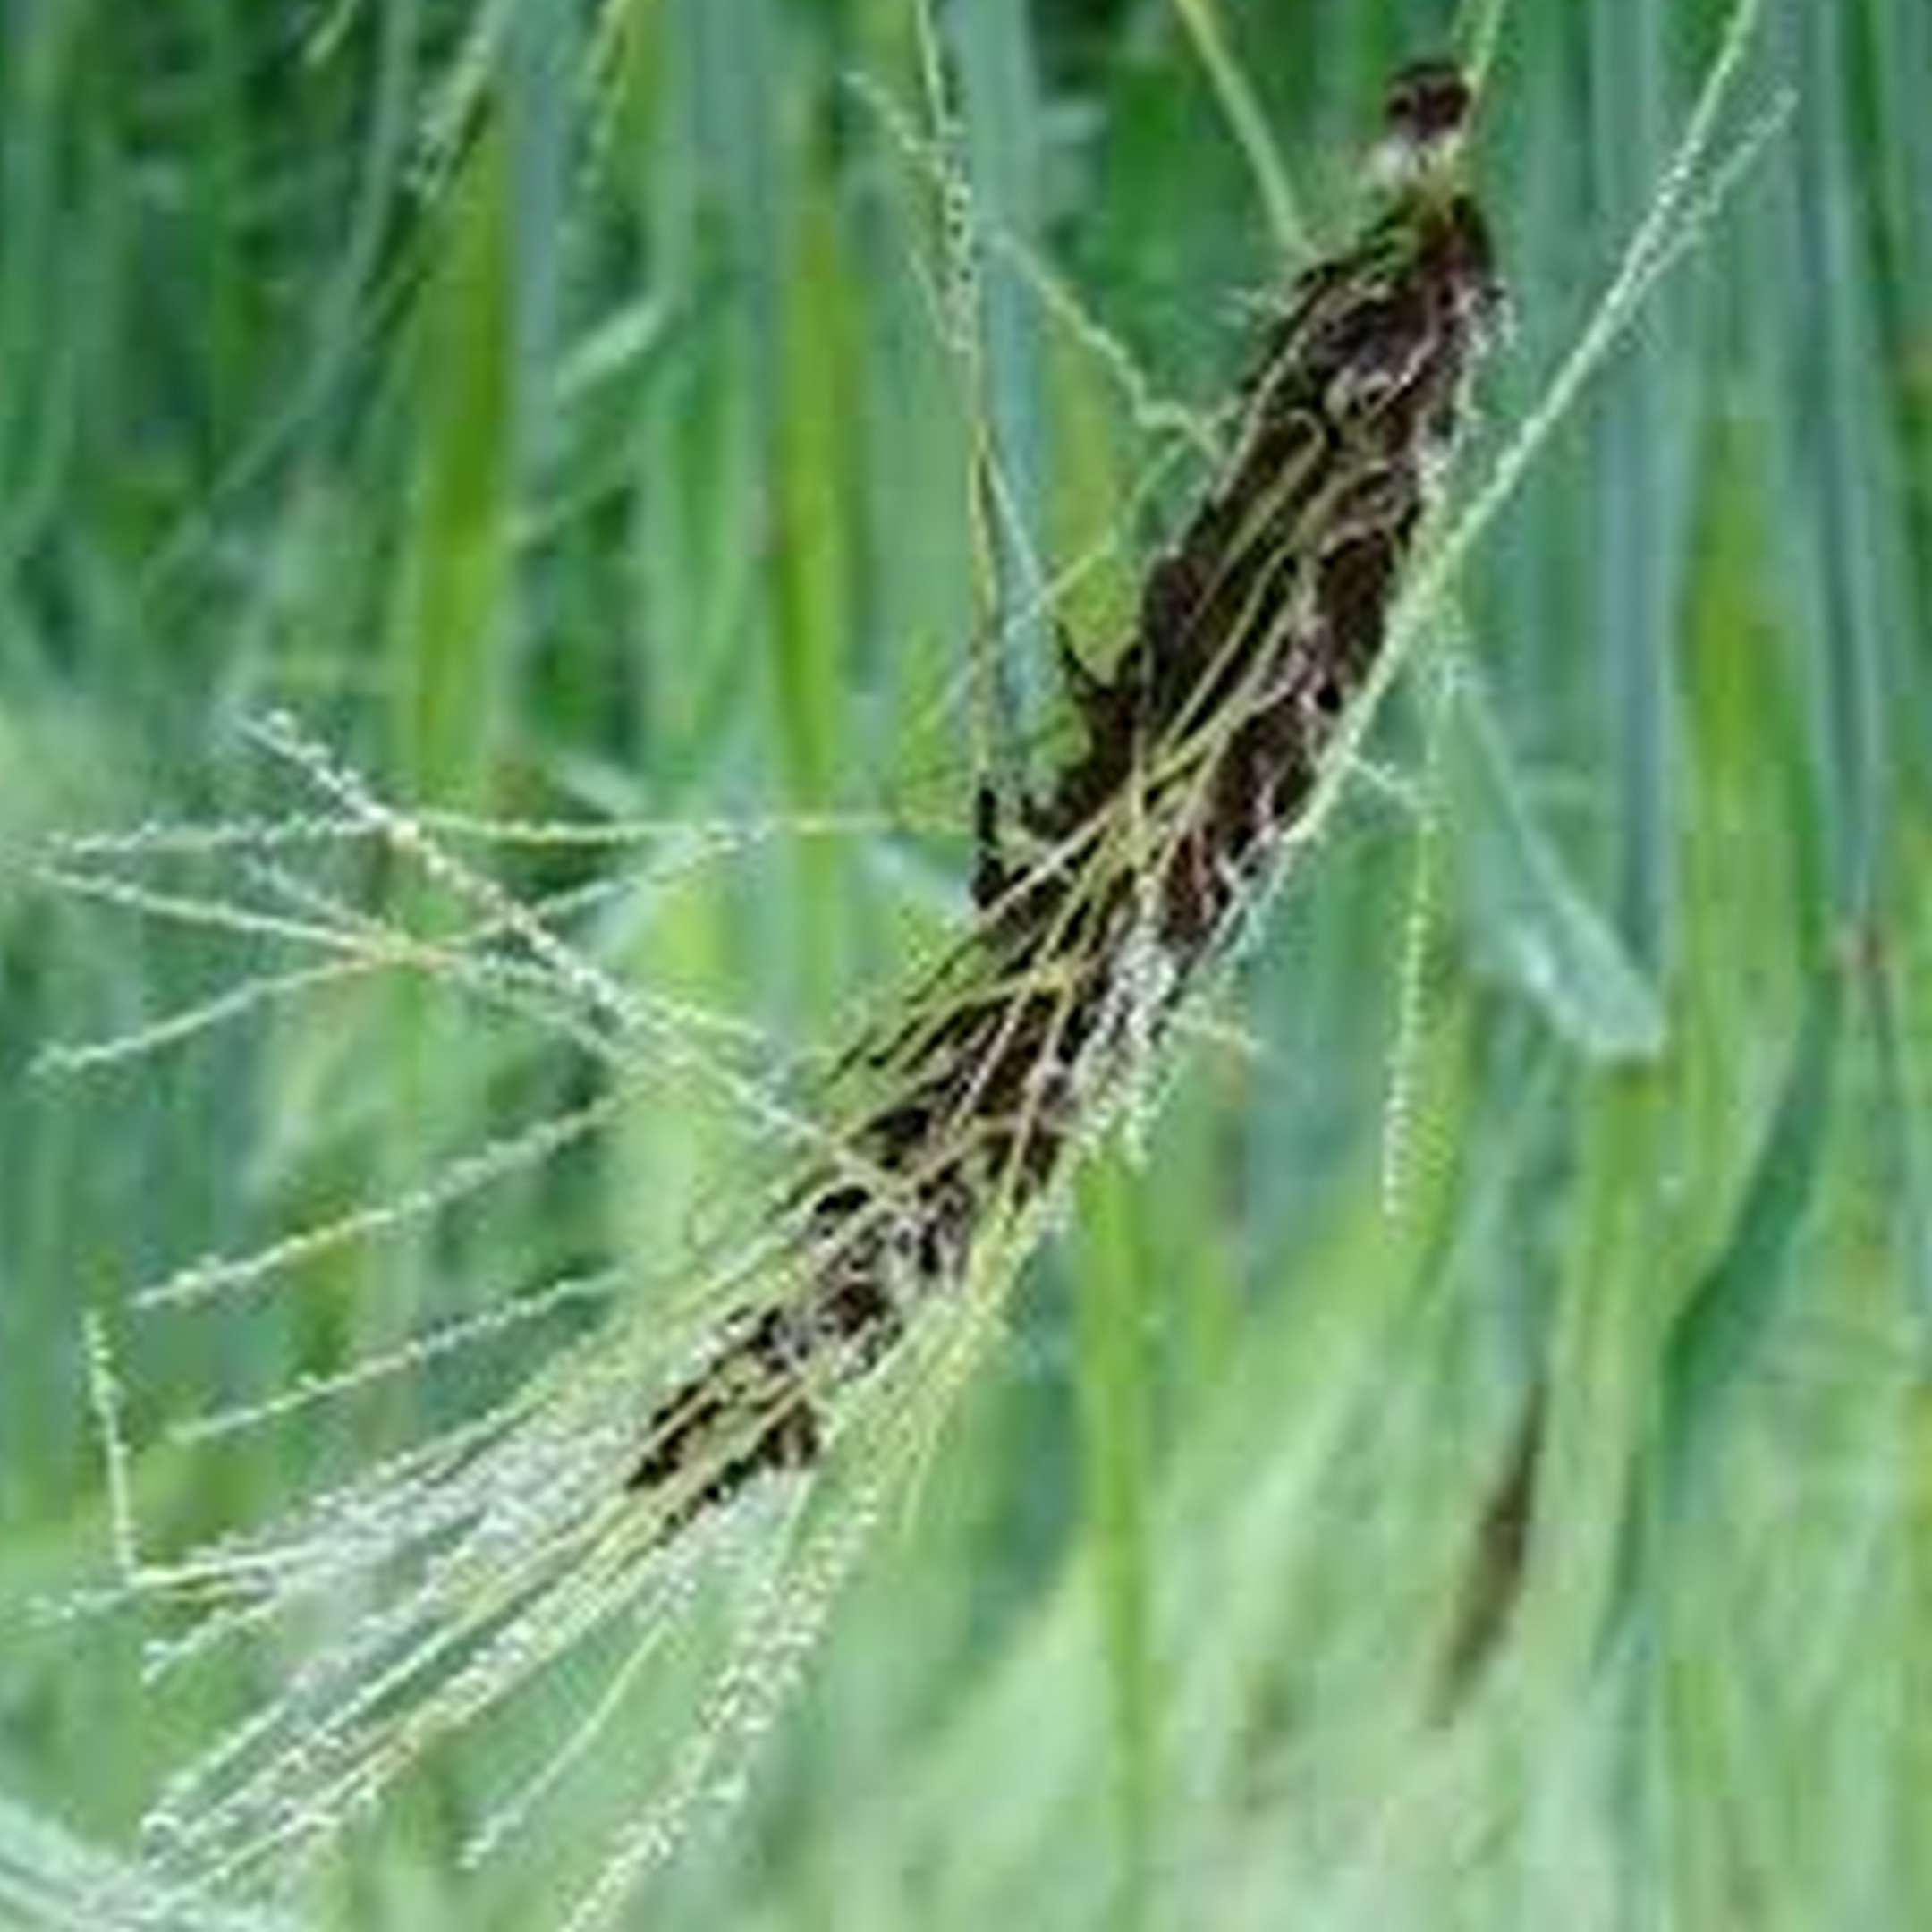Wheat Loose Smut: (591, 156, 1566, 1513)
